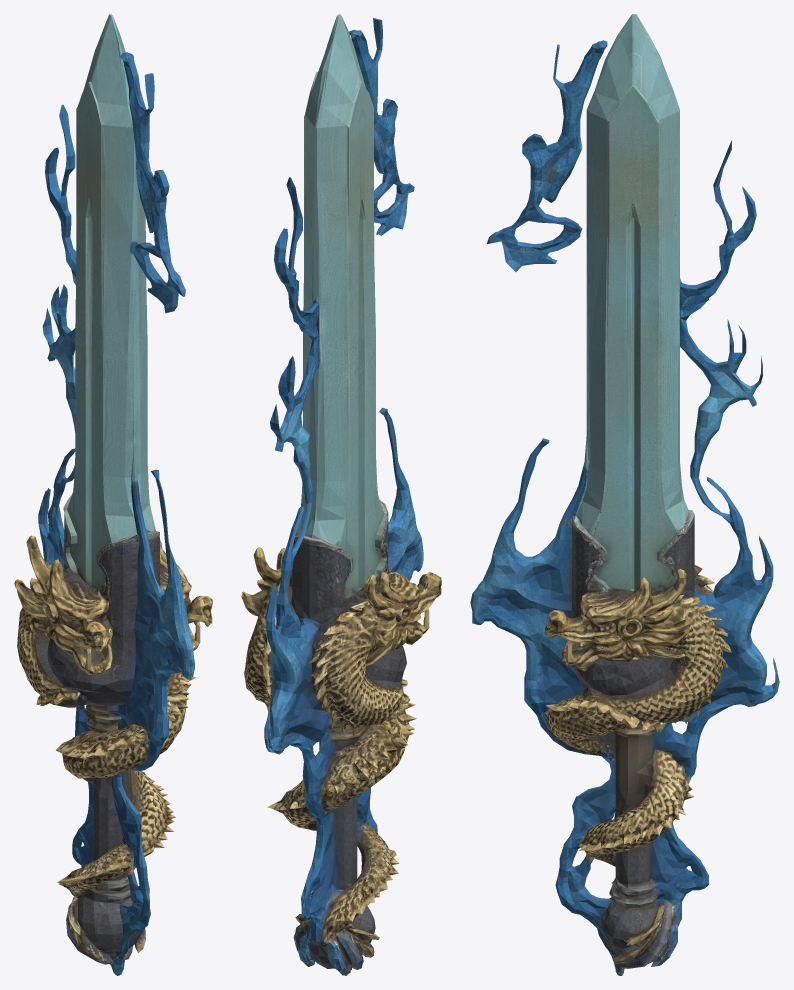
File: lantern.glb
The picture shows the model from 3 angles, left to right: view 1: azimuth 30°, elevation 25°; view 2: azimuth 150°, elevation 25°; view 3: azimuth 270°, elevation 25°; orthographic projection.
Parts seen in each view (by area): view 1: tripo_node_628cb9ca-0f41-4fa7-a574-388949fe7008; view 2: tripo_node_628cb9ca-0f41-4fa7-a574-388949fe7008; view 3: tripo_node_628cb9ca-0f41-4fa7-a574-388949fe7008.
Boxes of the visible parts, <box> form: tripo_node_628cb9ca-0f41-4fa7-a574-388949fe7008: <box>14,14,212,975</box>; tripo_node_628cb9ca-0f41-4fa7-a574-388949fe7008: <box>241,14,441,975</box>; tripo_node_628cb9ca-0f41-4fa7-a574-388949fe7008: <box>470,14,779,975</box>.
Bounding box in the file's own units: 0.1542 × 0.9977 × 0.2909.
Materials: 1 (1 with a texture image).
